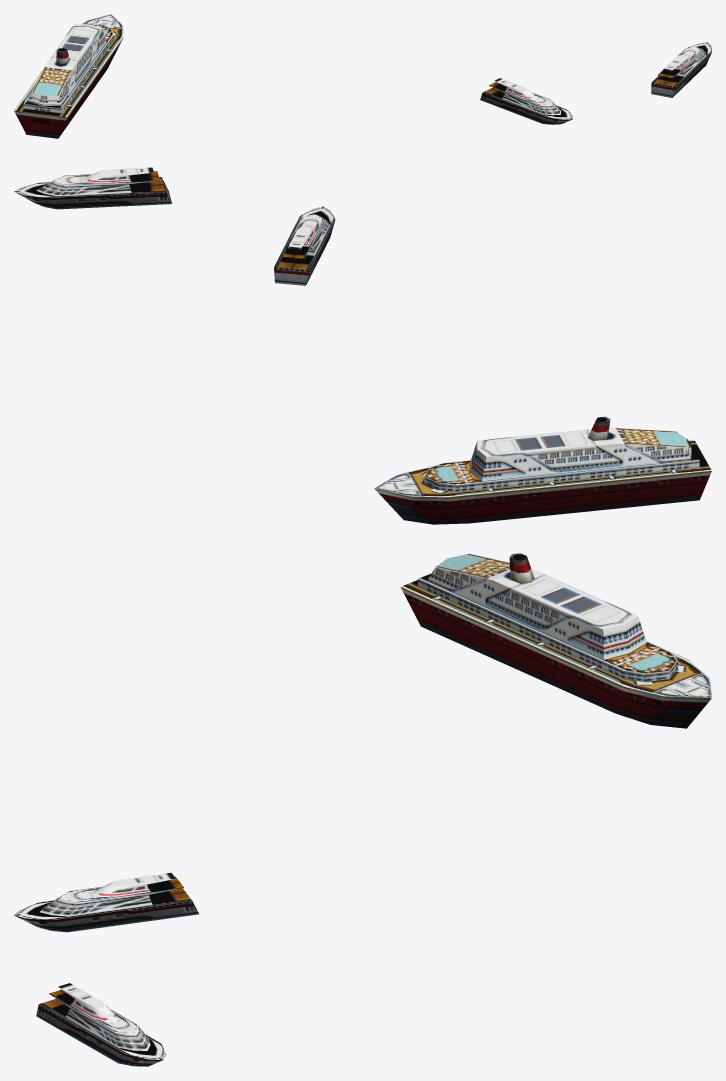
File: bridge_ship1.fbx
3 renders of one model, top to bottom at view 1: azimuth 30°, elevation 25°; view 2: azimuth 150°, elevation 25°; view 3: azimuth 270°, elevation 25°, orthographic. The views are drawn at different scales.
Visible parts, largest first — view 1: bridge_ship1; view 2: bridge_ship1; view 3: bridge_ship1.
Boxes of the visible parts, left/top/right/bottom form: bridge_ship1: left=14, top=14, right=711, bottom=138; bridge_ship1: left=14, top=167, right=711, bottom=524; bridge_ship1: left=14, top=553, right=711, bottom=1066.
Size of the model in its own units: 8591 by 802 by 5255.
